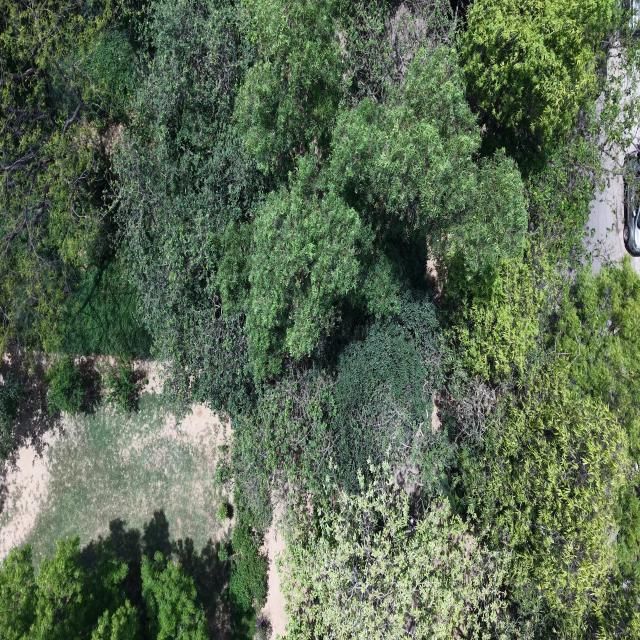DRY_AREA: (0, 371, 232, 565), (0, 394, 229, 564), (583, 123, 639, 271), (263, 508, 285, 638)
VEGETATION_TREE: (0, 0, 639, 639), (246, 46, 526, 377), (113, 0, 264, 409), (0, 0, 134, 351), (456, 371, 629, 634), (280, 464, 514, 638), (0, 513, 247, 639), (555, 259, 639, 576), (461, 0, 624, 143), (234, 0, 343, 180), (554, 259, 639, 458), (0, 539, 138, 639), (61, 260, 150, 358), (141, 552, 207, 639), (229, 519, 267, 612), (46, 356, 83, 414), (0, 373, 21, 460), (105, 360, 137, 412), (217, 499, 232, 521)
